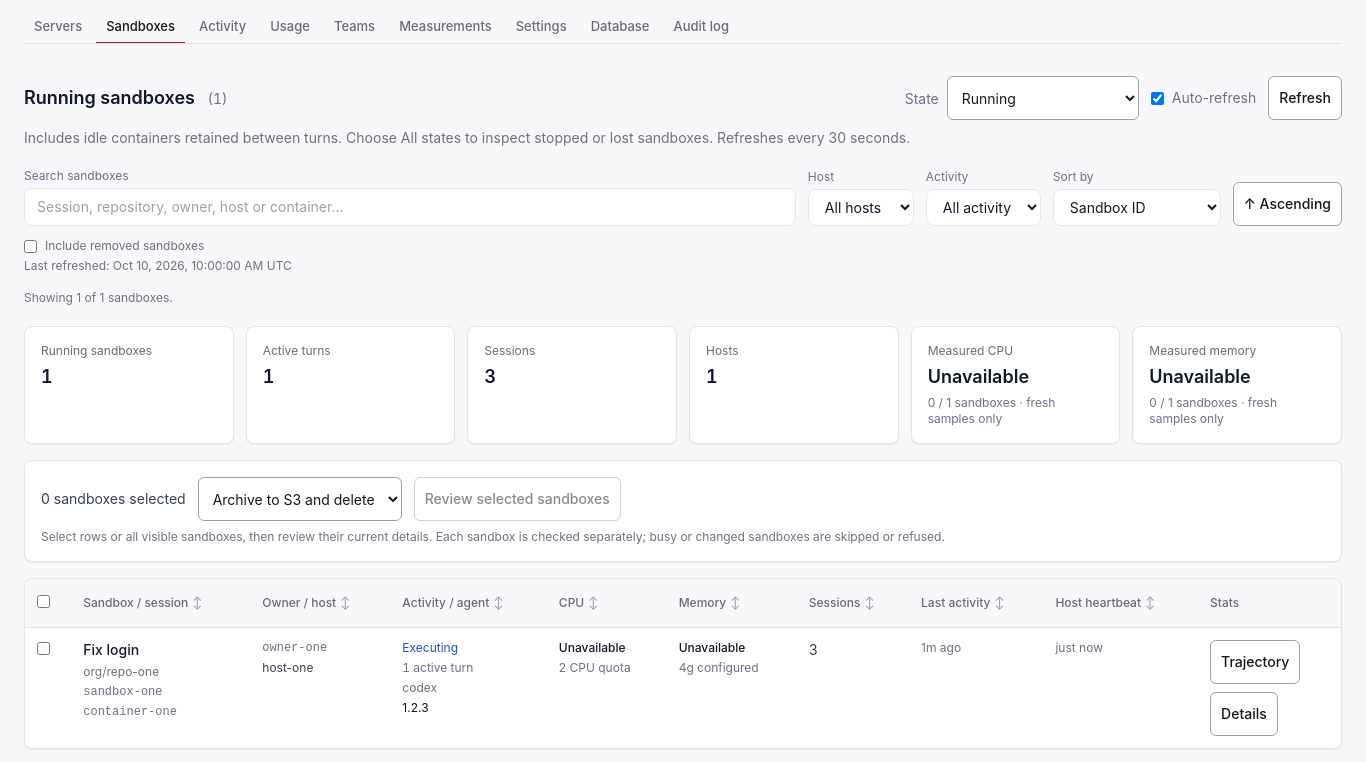
Test: running sandbox inventory › switches to all states after a stop request so host confirmation remains visible
The image size is (1366, 762).
(page scrolled)
Click the button with aria-label "Show details for Fix login": (1244, 714) [1210,692,1278,736]
(page scrolled)
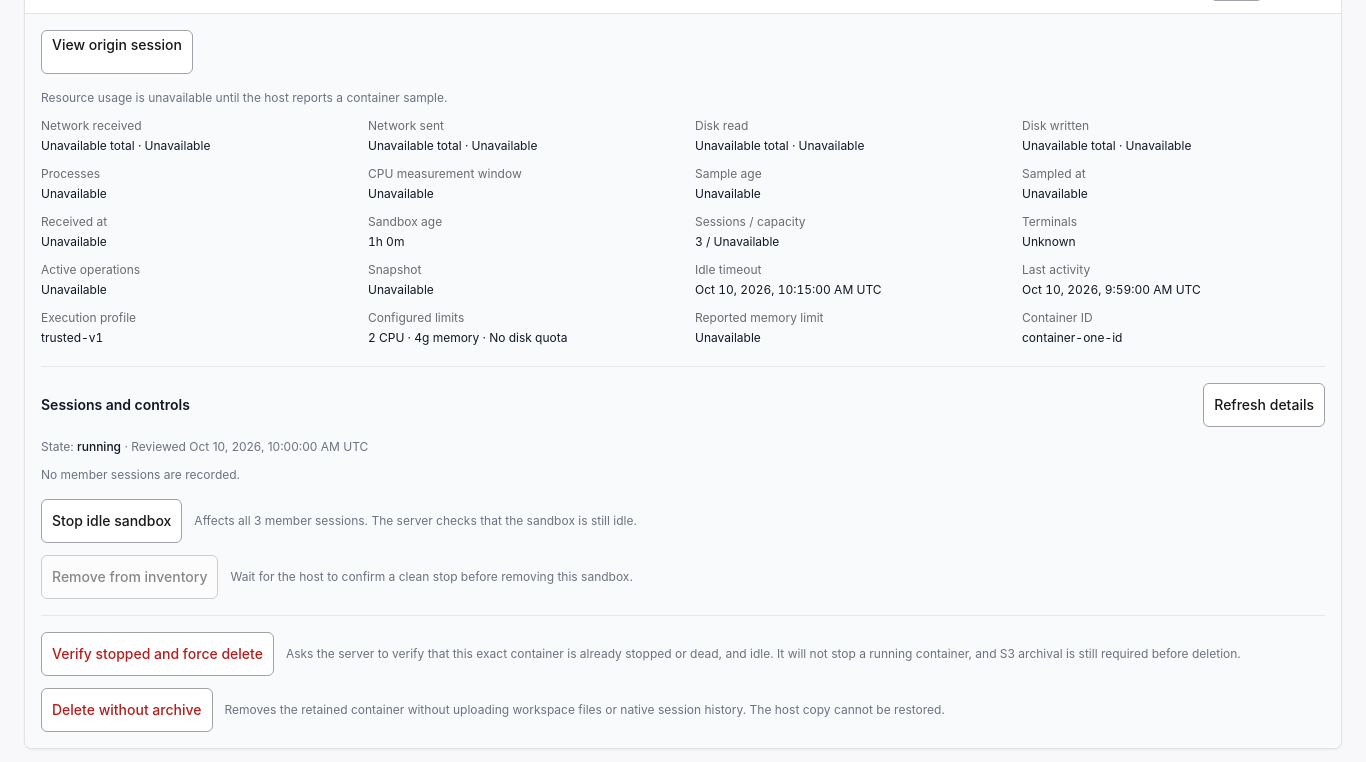
expect the button "Stop idle sandbox" is enabled: met
Click the button "Stop idle sandbox": (112, 521) [41,499,182,543]
(page scrolled)
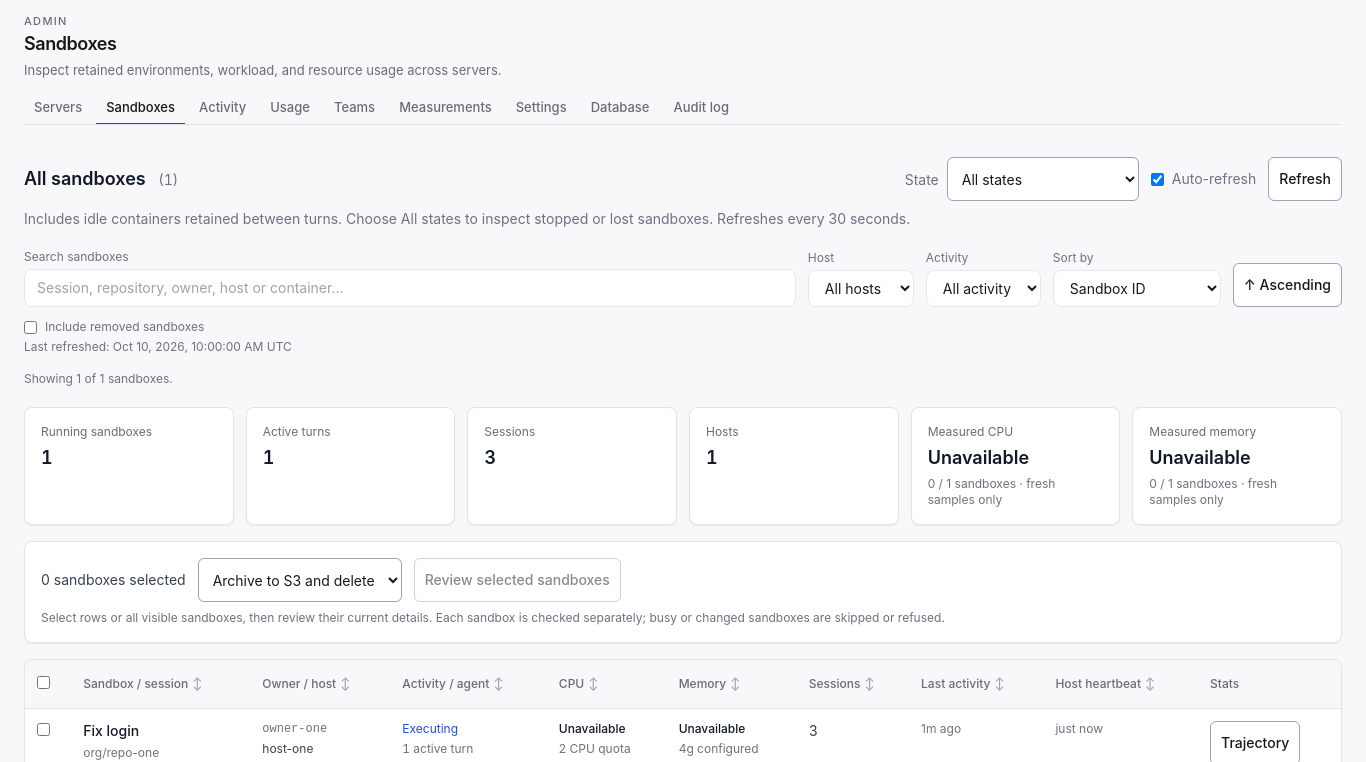
expect the dropdown named "Sandbox state" shows "All states": met, box [947,157,1139,201]
